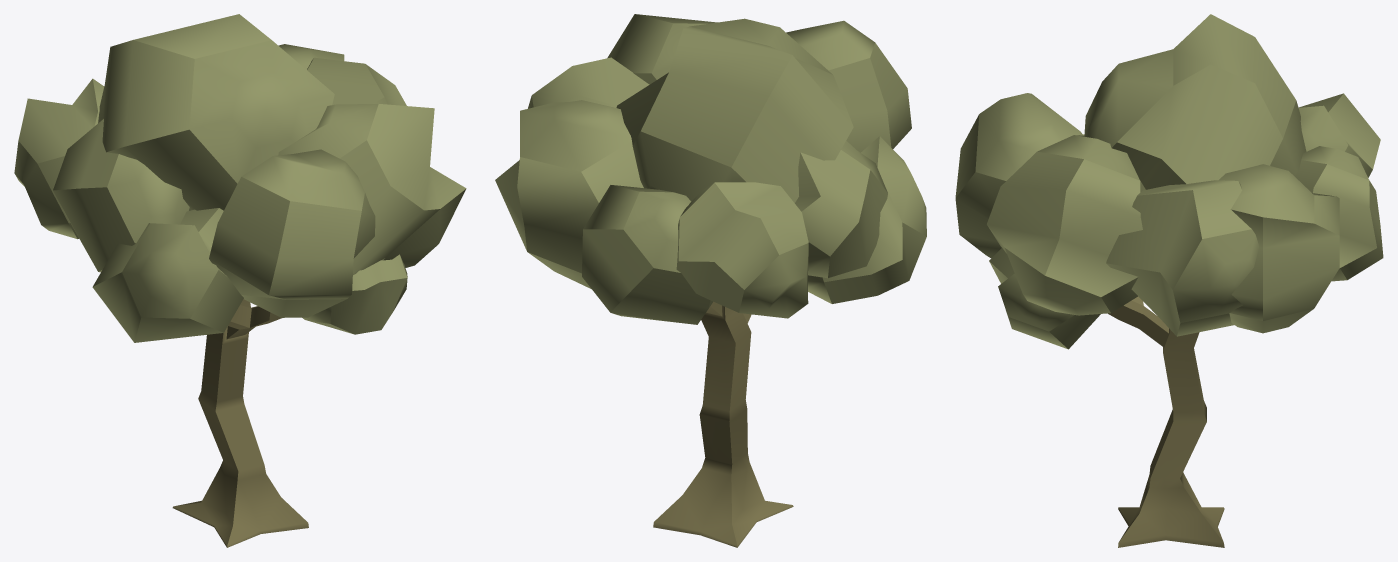
File: TreeType1.fbx
3 views of the same model, side by side, from view 1: azimuth 30°, elevation 25°; view 2: azimuth 150°, elevation 25°; view 3: azimuth 270°, elevation 25° (orthographic). The views are drawn at different scales.
Visible parts, largest first — view 1: Leaves3, Leaves6, Leaves8, Leaves4, Tree, Leaves5, Leaves10, Leaves9, Leaves2, Leaves1; view 2: Leaves3, Leaves1, Leaves10, Tree, Leaves7, Leaves5, Leaves6, Leaves4, Leaves2, Leaves8; view 3: Leaves3, Leaves8, Leaves2, Leaves1, Tree, Leaves6, Leaves7, Leaves10, Leaves9.
Boxes of the visible parts, x1,y1,x2,y2 form: Leaves3: [98, 14, 334, 210]; Leaves6: [209, 149, 375, 317]; Leaves8: [278, 103, 466, 274]; Leaves4: [92, 208, 243, 342]; Tree: [172, 299, 308, 547]; Leaves5: [53, 119, 190, 272]; Leaves10: [14, 78, 104, 239]; Leaves9: [302, 254, 407, 334]; Leaves2: [307, 57, 406, 105]; Leaves1: [278, 44, 344, 69]; Leaves3: [616, 18, 853, 202]; Leaves1: [495, 100, 643, 288]; Leaves10: [676, 182, 808, 318]; Tree: [653, 301, 793, 547]; Leaves7: [582, 185, 712, 324]; Leaves5: [795, 140, 887, 278]; Leaves6: [786, 20, 911, 152]; Leaves4: [808, 136, 926, 303]; Leaves2: [528, 57, 649, 108]; Leaves8: [607, 14, 717, 84]; Leaves3: [1084, 14, 1306, 189]; Leaves8: [987, 135, 1145, 315]; Leaves2: [1106, 180, 1258, 336]; Leaves1: [1219, 164, 1339, 333]; Tree: [1107, 296, 1224, 547]; Leaves6: [955, 93, 1083, 258]; Leaves7: [1295, 146, 1383, 281]; Leaves10: [1298, 93, 1380, 177]; Leaves9: [989, 248, 1100, 349].
Bounding box in the file's own units: 2.67 × 3.57 × 2.93.
